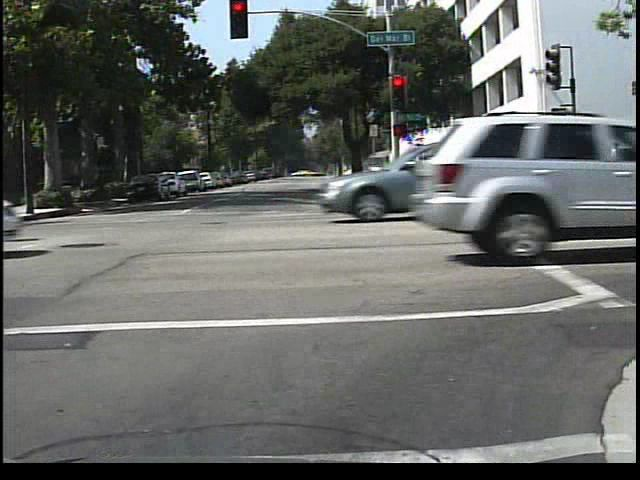person: (600, 136, 627, 202)
